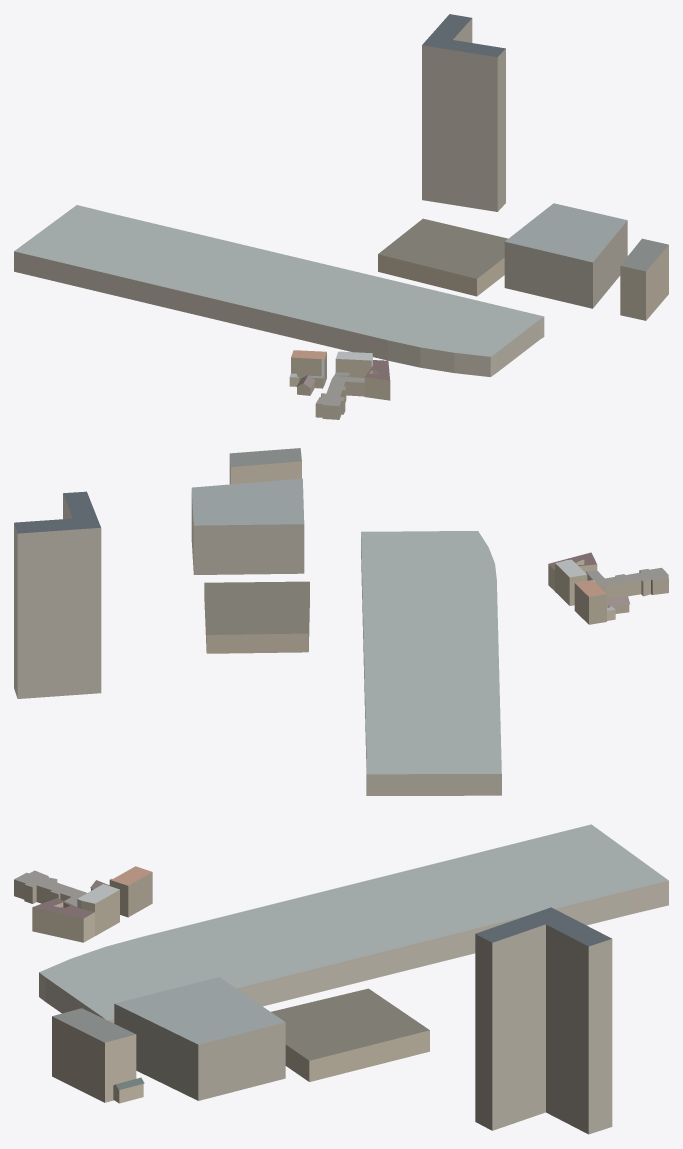
3 renders of one model, top to bottom at view 1: azimuth 30°, elevation 25°; view 2: azimuth 150°, elevation 25°; view 3: azimuth 270°, elevation 25°, orthographic. The views are drawn at different scales.
Visible parts, largest first — view 1: tuile; view 2: tuile; view 3: tuile.
Part boxes in pixels (x1,y1,x2,y2): tuile: (14, 14, 668, 419); tuile: (14, 448, 668, 795); tuile: (14, 824, 668, 1134).
Bounding box in the file's own units: 303 × 97.77 × 309.
